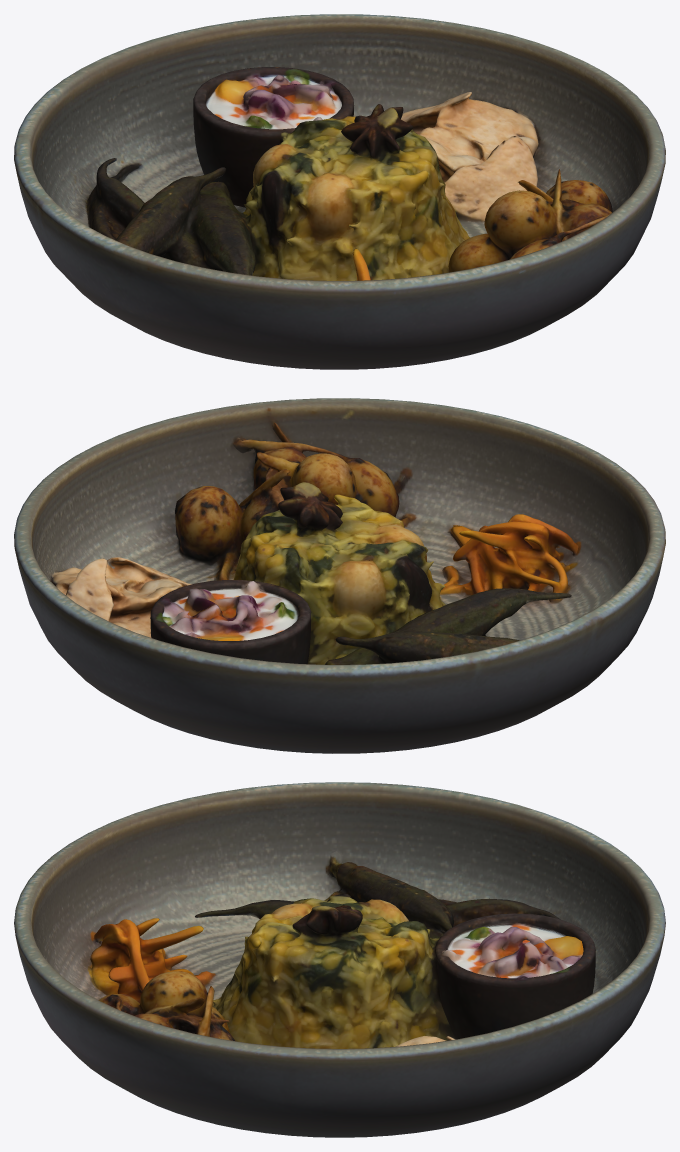
Rendered from Kichidi_(gray_dish_yellow_rice).FBX.
3 renders of one model, top to bottom at view 1: azimuth 30°, elevation 25°; view 2: azimuth 150°, elevation 25°; view 3: azimuth 270°, elevation 25°, orthographic.
Parts seen in each view (by area): view 1: Kichidi (gray dish, yellow rice); view 2: Kichidi (gray dish, yellow rice); view 3: Kichidi (gray dish, yellow rice).
Boxes of the visible parts, left/top/right/bottom form: Kichidi (gray dish, yellow rice): left=14, top=14, right=665, bottom=369; Kichidi (gray dish, yellow rice): left=14, top=398, right=665, bottom=753; Kichidi (gray dish, yellow rice): left=14, top=782, right=665, bottom=1137.
Bounding box in the file's own units: 3.82 × 1.03 × 3.82.
Materials: 1 (1 with a texture image).
